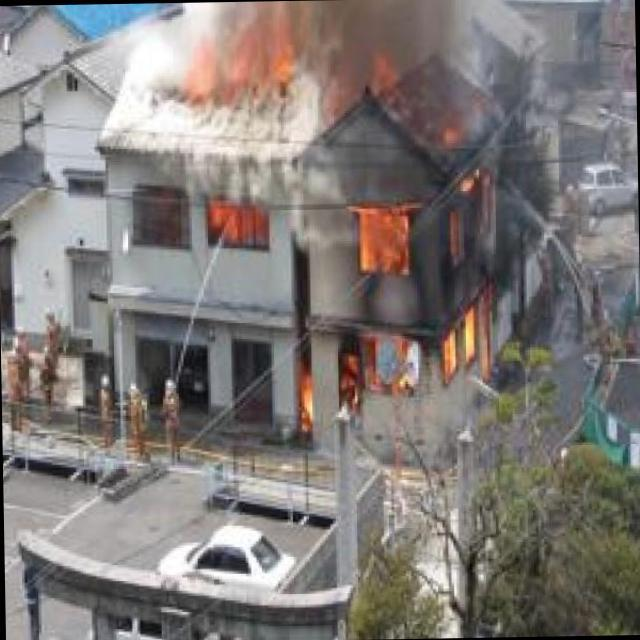Fire: (330, 121, 537, 424), (160, 8, 307, 111), (148, 193, 278, 255)
